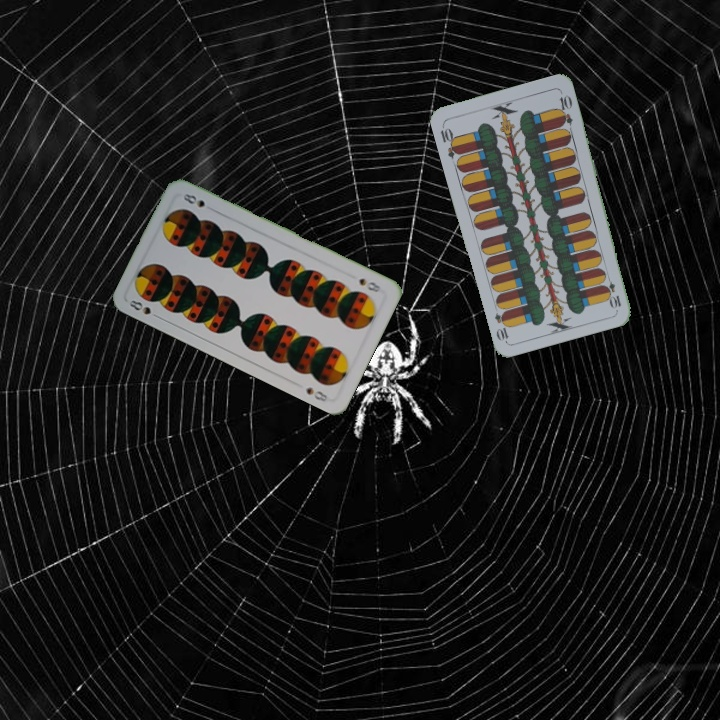E10: (436, 121, 462, 161), (601, 271, 624, 311)
S8: (125, 296, 163, 321), (355, 274, 386, 295)
